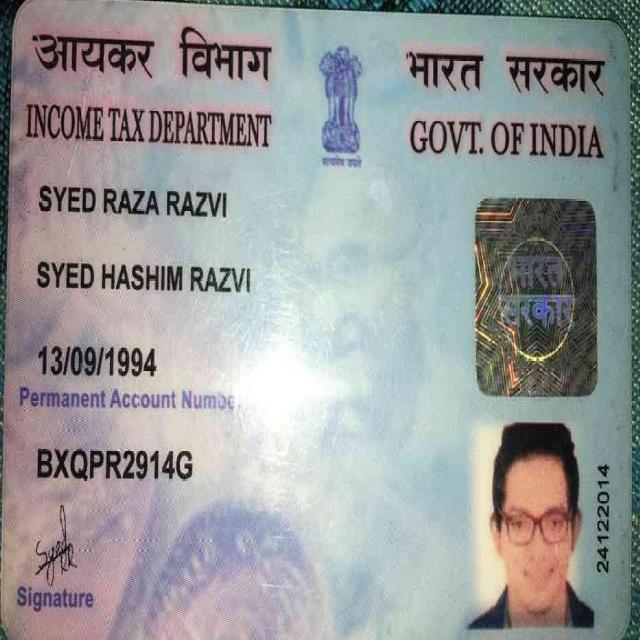pan_card: (8, 4, 635, 640)
